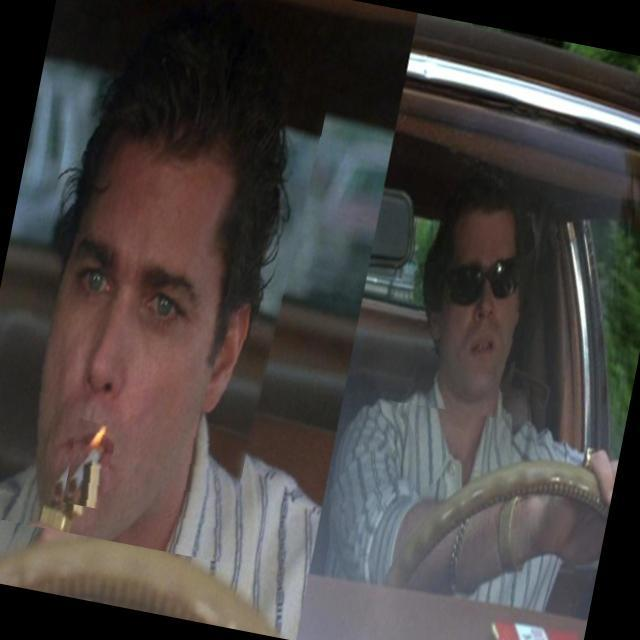cigarette: (62, 418, 120, 510)
